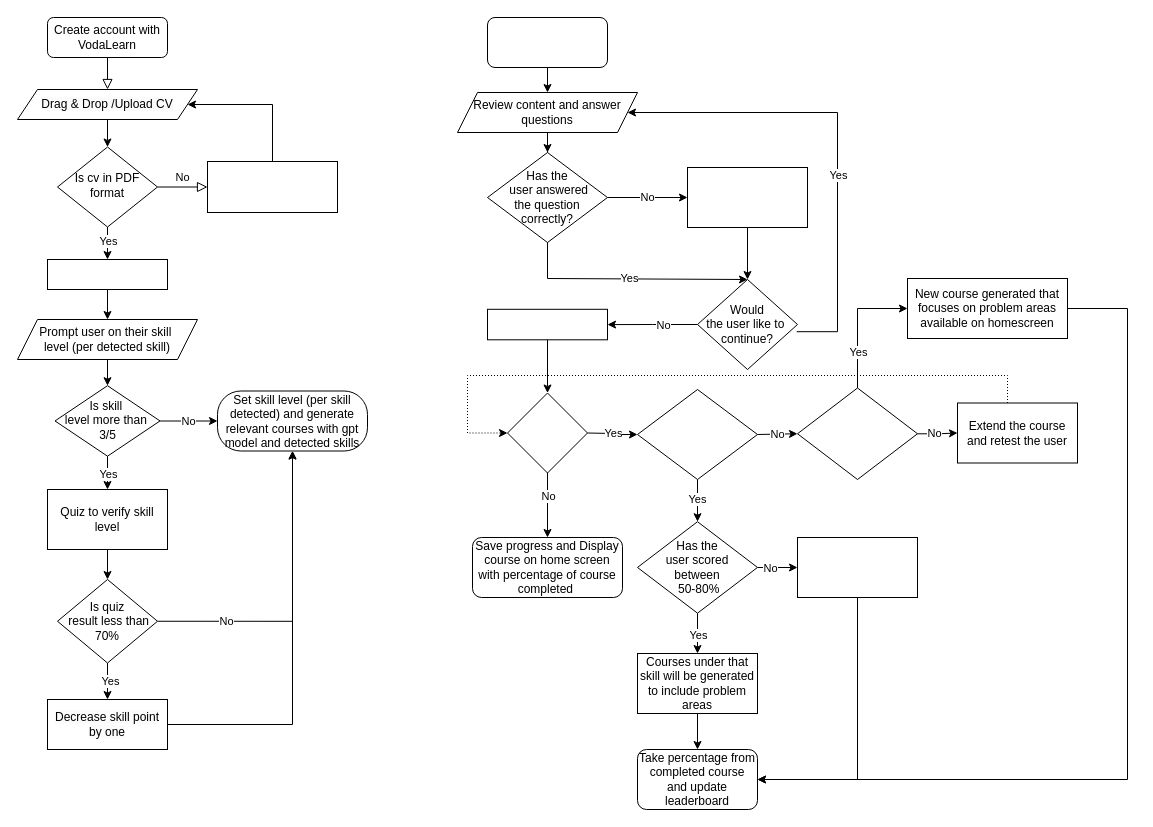
The diagram is 1153 pixels wide and 827 high, and some of its shapes have lost their labels. Each missing label, with the box of its shape:
Detect skills from cv: (46, 258, 168, 290)
Exit course: (486, 308, 608, 340)
Gold Star awarded for that course: (796, 536, 918, 598)
Has the user achieved at least 50%: (636, 388, 758, 480)
Is course completed: (506, 392, 588, 473)
Is this the second attempt at the course: (796, 387, 918, 480)
Prompt user to upload a pdf cv: (206, 160, 338, 212)
Select a course via search bar/ on home screen: (486, 16, 608, 68)
Store incorrect questions and view on user profile: (686, 166, 808, 228)
